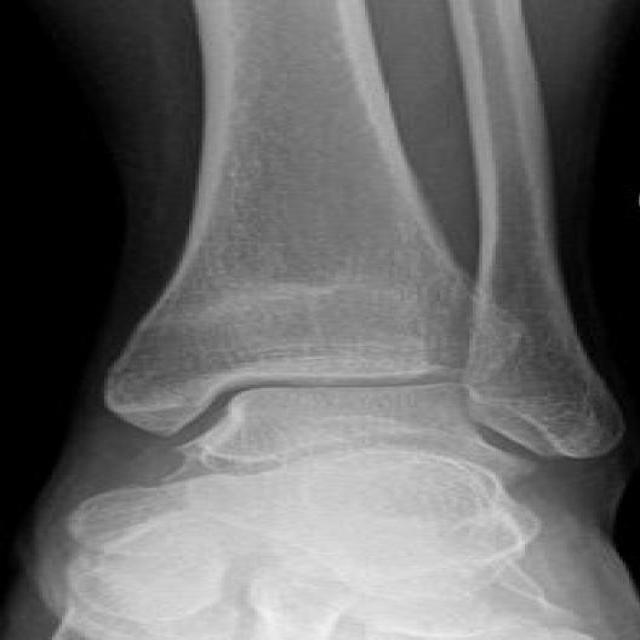Hairline: (72, 355, 332, 500)
